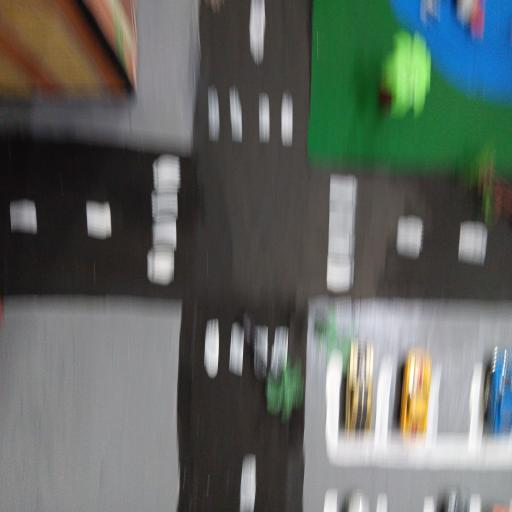fallen trees: (238, 308, 304, 422), (455, 149, 512, 219)
trash: (420, 0, 489, 39)
